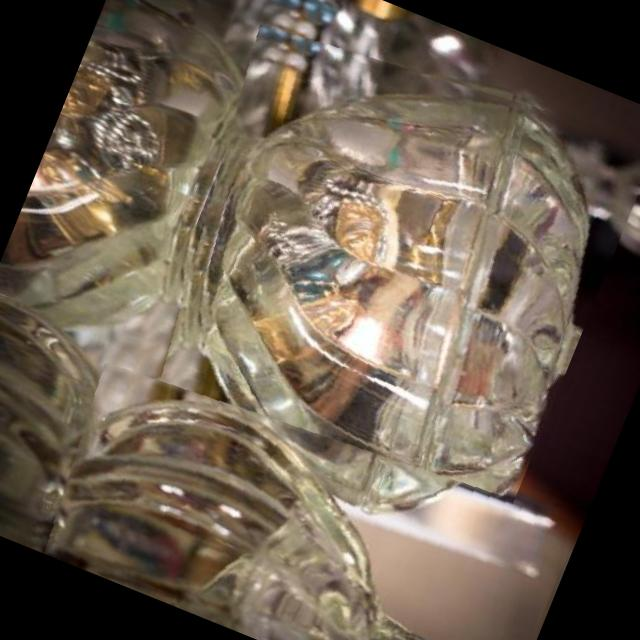Glass: (107, 0, 640, 554), (28, 334, 578, 640)
